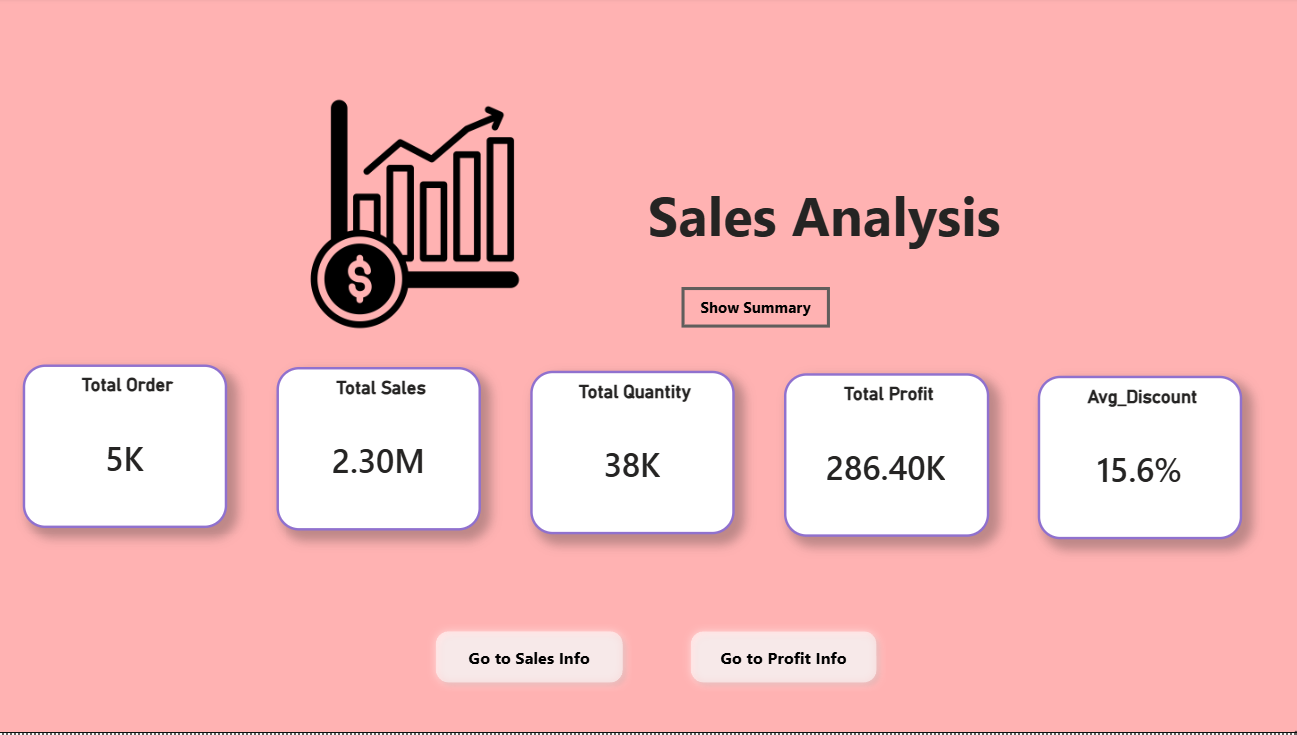

The dashboard page shown, as its layout file describes it:
{"tool":"powerbi","page":{"name":"Main Sales ","canvas":[1280,720],"ordinal":0},"visuals":[{"type":"image","box":[203,100.3,426.8,223.8],"z":0},{"type":"textbox","box":[639.5,171.2,412.1,83.2],"z":1000},{"type":"cardVisual","title":"Total Order","fields":{"Data":["Measure.T_Order"]},"box":[33,359.5,200,160.2],"z":2000},{"type":"cardVisual","title":"Total Profit","fields":{"Data":["Measure.T. profit"]},"box":[777.3,367.7,200.5,160.2],"z":3000},{"type":"cardVisual","title":"Total Sales","fields":{"Data":["Measure.T_Sales"]},"box":[281.1,362.3,200,160.2],"z":4000},{"type":"cardVisual","title":"Avg_Discount","fields":{"Data":["Measure.avg_Discount"]},"box":[1026,370.5,200,160.2],"z":5000},{"type":"cardVisual","title":"Total Quantity","fields":{"Data":["Measure.T_Quantity"]},"box":[529.2,365.1,200,160],"z":6000},{"type":"actionButton","box":[428.2,612,201.1,68.3],"z":7000},{"type":"actionButton","box":[677.7,612,199.8,68.3],"z":8000},{"type":"actionButton","box":[677.7,284.3,145.2,39.7],"z":9000}]}

Visuals, with their boxes in screenshot pixels (x1, y1, x2, y2), scaled from the page's 1280x720 canvas onto the 1297x735 screenshot:
image: rect(206, 102, 638, 331)
textbox: rect(648, 175, 1066, 260)
"Total Order" cardVisual: rect(33, 367, 236, 531)
"Total Profit" cardVisual: rect(788, 375, 991, 539)
"Total Sales" cardVisual: rect(285, 370, 487, 533)
"Avg_Discount" cardVisual: rect(1040, 378, 1242, 542)
"Total Quantity" cardVisual: rect(536, 373, 739, 536)
actionButton: rect(434, 625, 638, 694)
actionButton: rect(687, 625, 889, 694)
actionButton: rect(687, 290, 834, 331)
